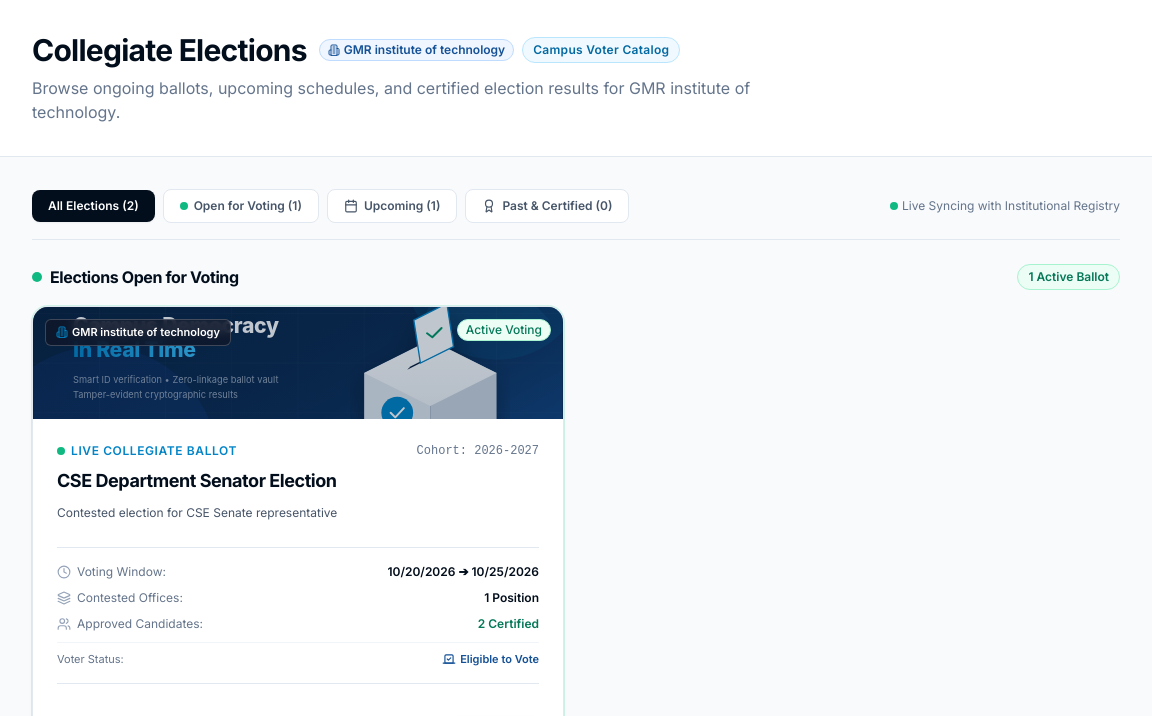
ElectionsPage — Visibility, Lifecycle Segmentation, and Error Handling › filters by tab when clicking Upcoming or Open for Voting tabs
# Click on Upcoming tab
Click the button "Upcoming (1)": (392, 206) [327, 189, 457, 223]
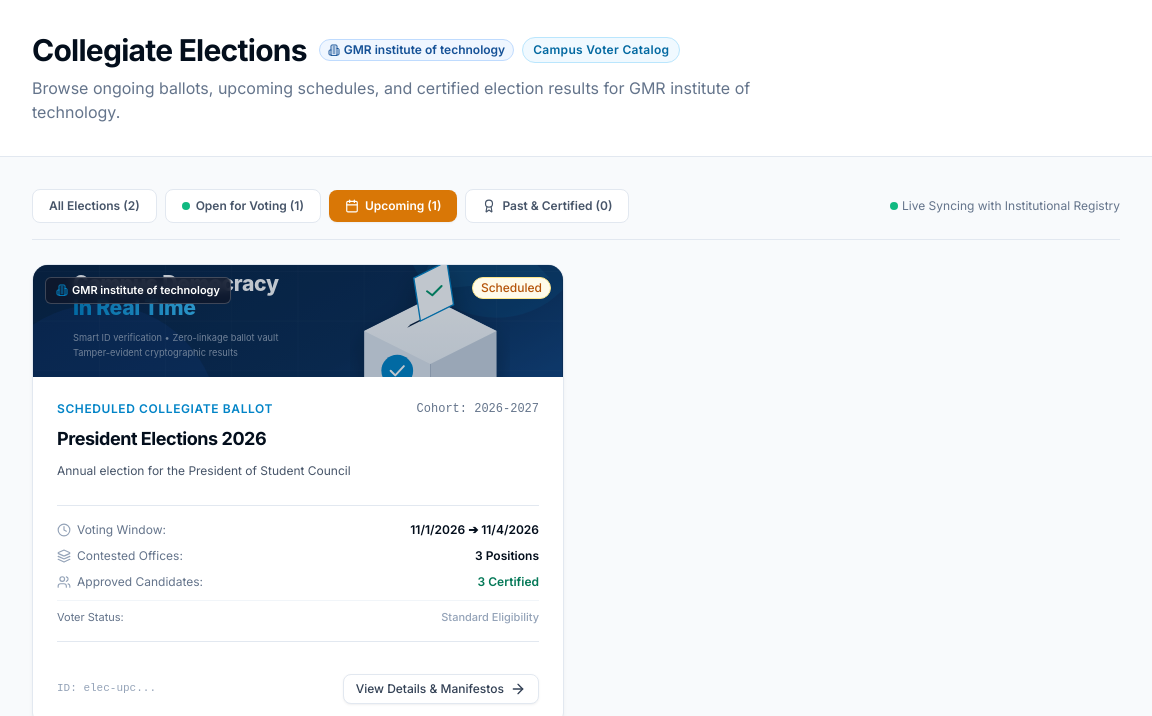
Expected: the heading "President Elections 2026" is shown, [57, 428, 266, 449]
Result: the heading "CSE Department Senator Election" is gone
